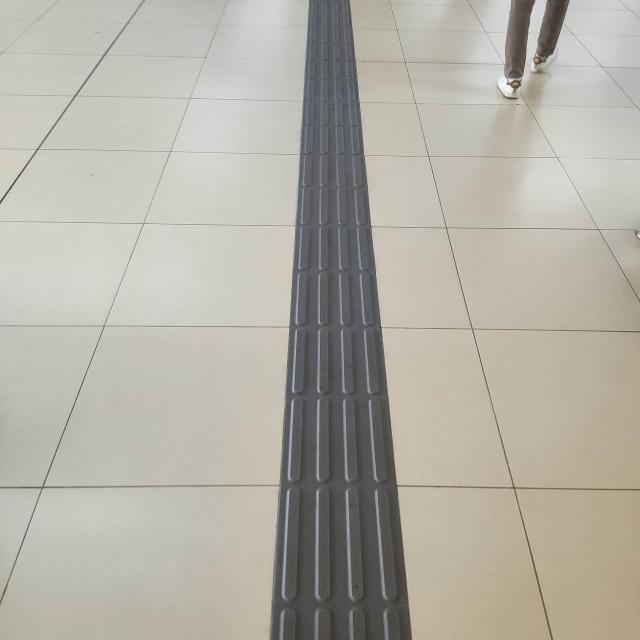lurus: (282, 9, 403, 640)
